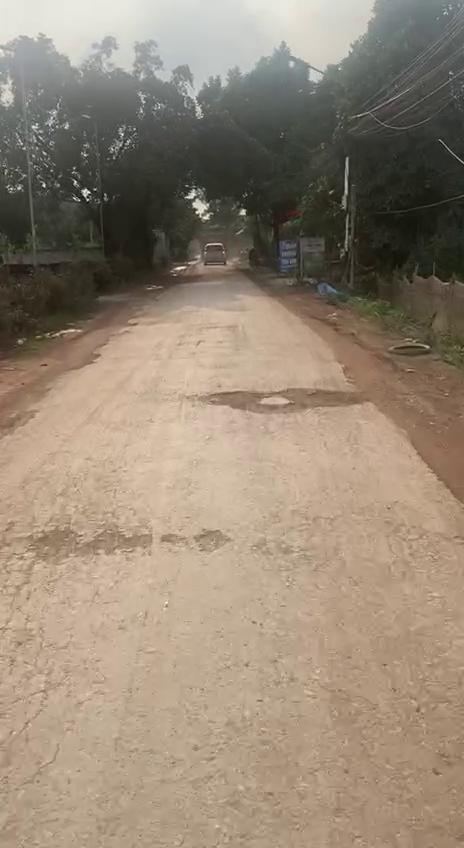pothole: (196, 381, 368, 418)
